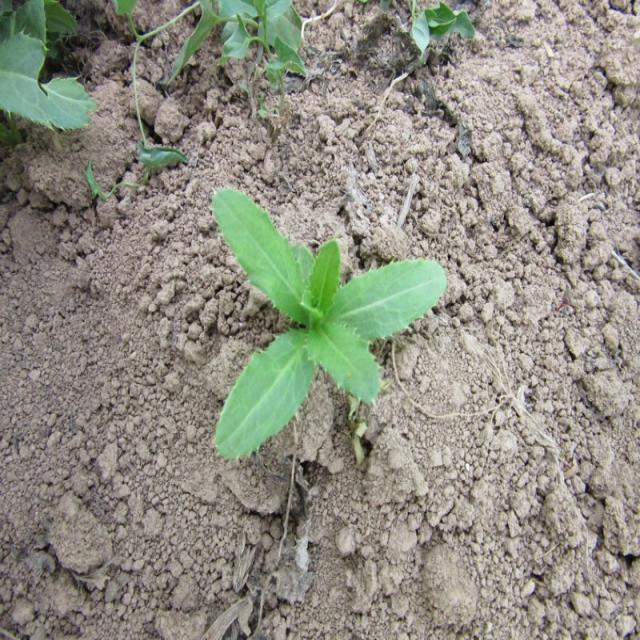field_thistle: (196, 189, 459, 483)
